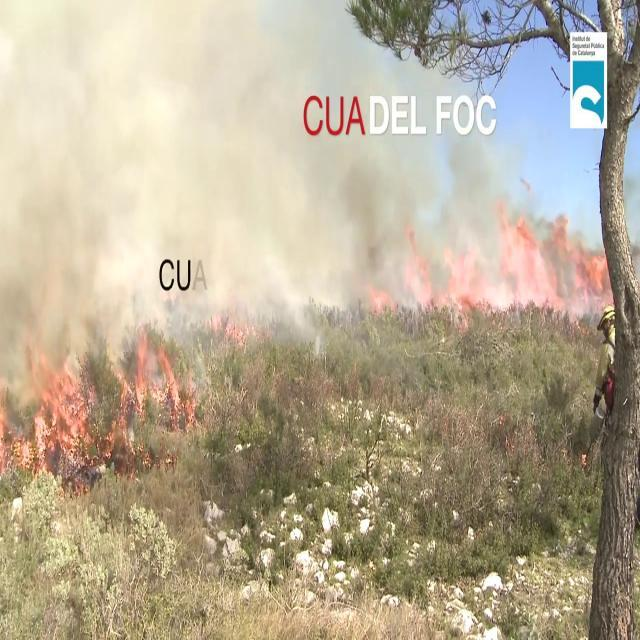Fire: (0, 348, 93, 476), (124, 330, 186, 420)
Smoke: (0, 1, 577, 351)
